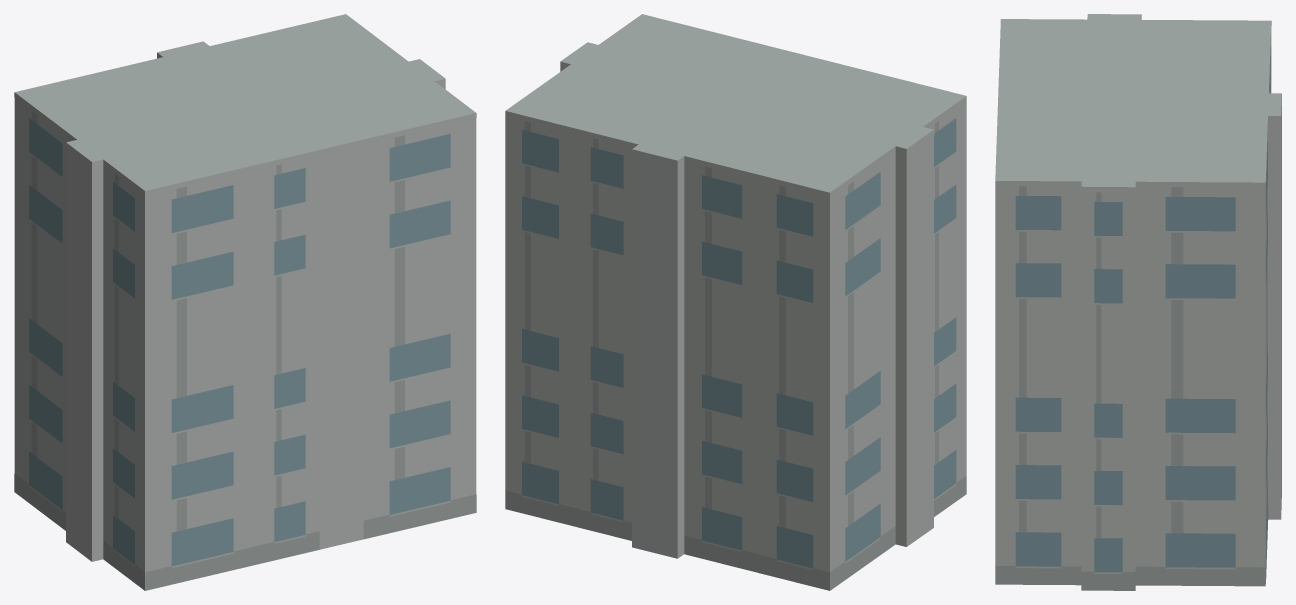
Rendered from survey-upis-32566297.glb.
3 renders of one model, left to right at view 1: azimuth 30°, elevation 25°; view 2: azimuth 150°, elevation 25°; view 3: azimuth 270°, elevation 25°, orthographic.
Visible parts, largest first — view 1: survey-upis-32566297.tmp; view 2: survey-upis-32566297.tmp; view 3: survey-upis-32566297.tmp.
Part boxes in pixels (x1,y1,x2,y2): survey-upis-32566297.tmp: [14, 14, 476, 590]; survey-upis-32566297.tmp: [505, 14, 966, 590]; survey-upis-32566297.tmp: [995, 14, 1281, 590].
Size of the model in its own units: 16.84 by 18.3 by 11.78.
